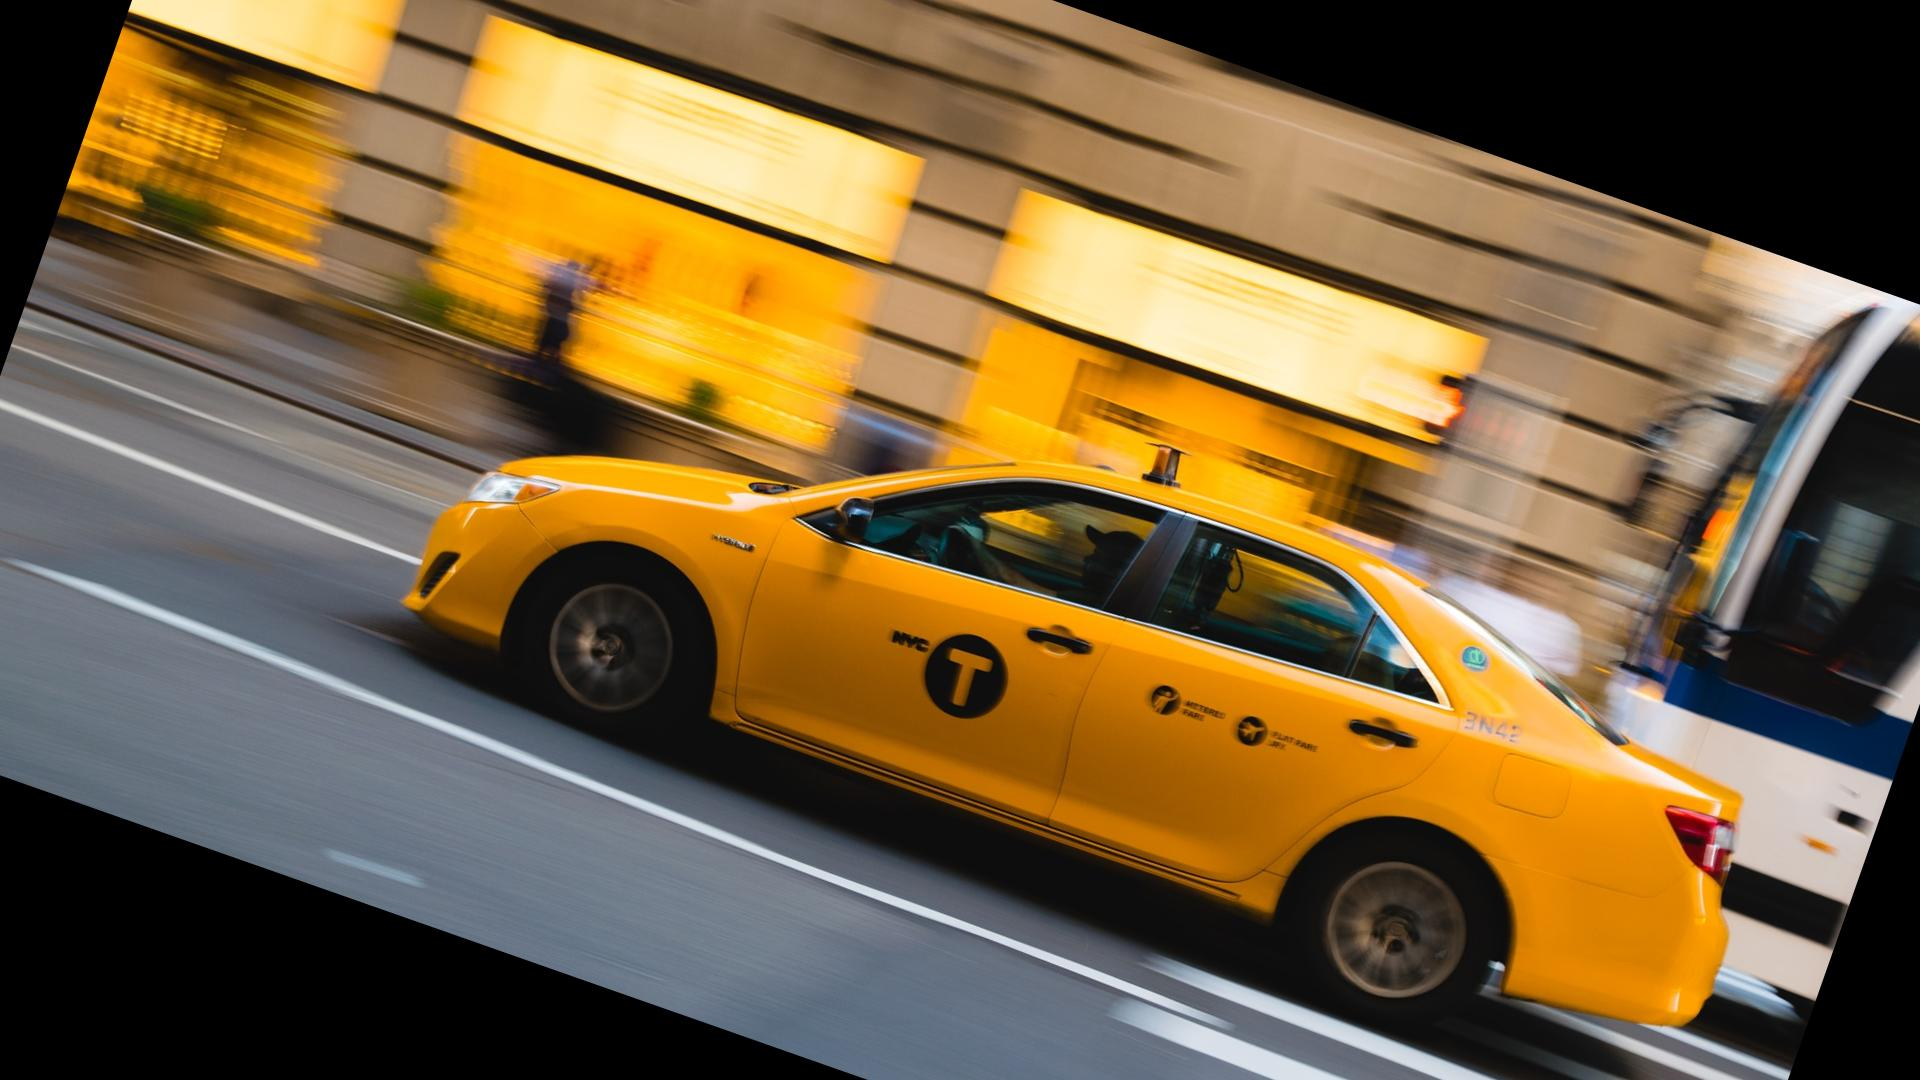taxi: (392, 388, 1726, 1080)
